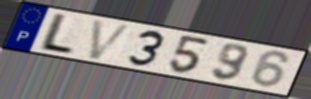3: (125, 30, 167, 67)
5: (165, 33, 213, 77)
6: (248, 50, 294, 91)
9: (209, 42, 249, 83)
L: (35, 12, 78, 56)
V: (86, 18, 135, 62)
